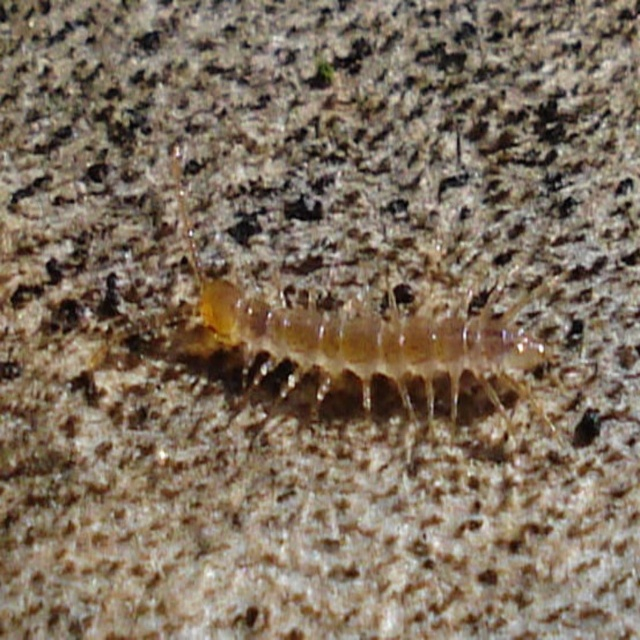Centipede: (91, 164, 599, 447)
